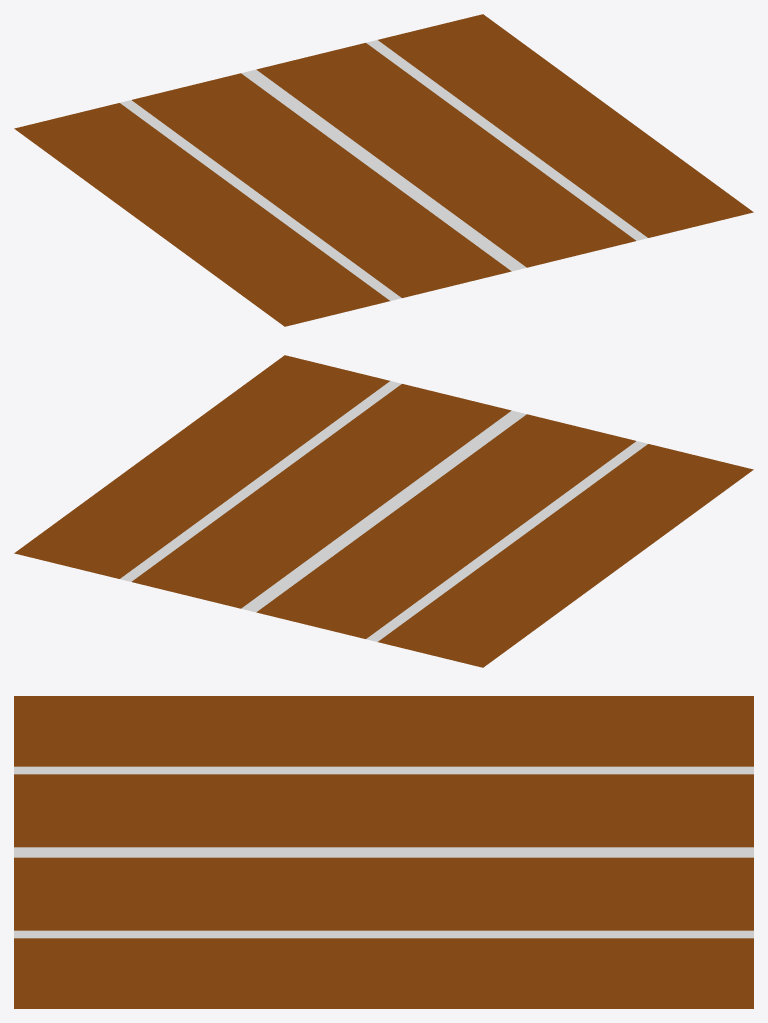
File: walkroad (1).fbx
3 renders of one model, top to bottom at view 1: azimuth 30°, elevation 25°; view 2: azimuth 150°, elevation 25°; view 3: azimuth 270°, elevation 25°, orthographic. The views are drawn at different scales.
Parts seen in each view (by area): view 1: Plane; view 2: Plane; view 3: Plane.
Part boxes in pixels (x1,y1,x2,y2): Plane: (14,14,753,326); Plane: (14,355,753,667); Plane: (14,696,753,1008).
Size of the model in its own units: 200 by 3.26e-05 by 200.
